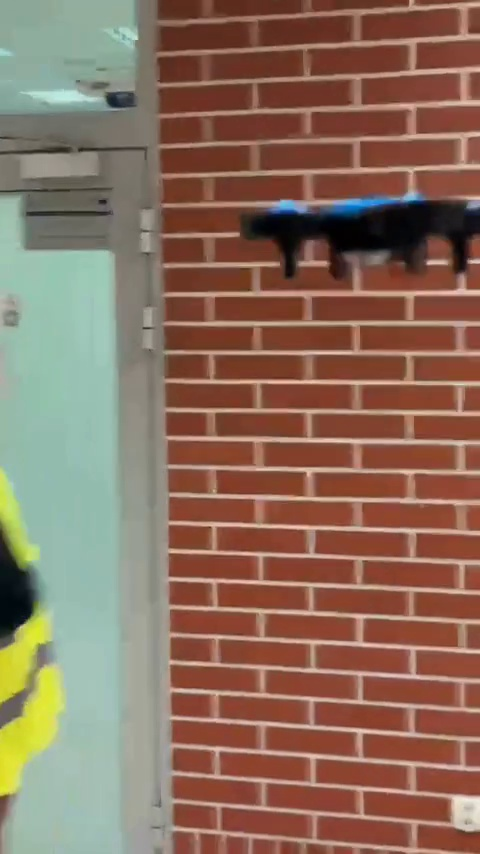drone: (230, 189, 480, 274)
